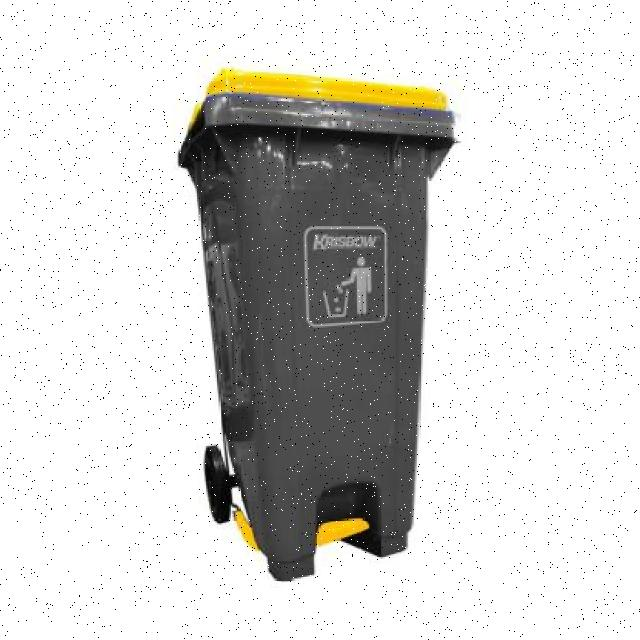garbage container: (136, 57, 509, 591)
